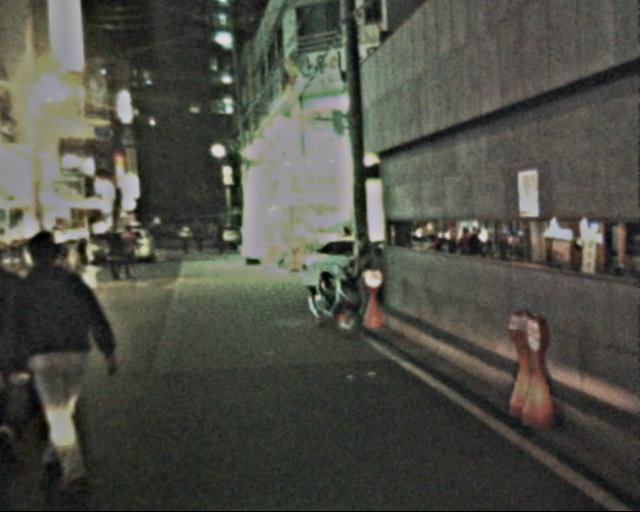person: (1, 223, 121, 498), (145, 215, 225, 256), (119, 221, 145, 280), (104, 219, 128, 280)
